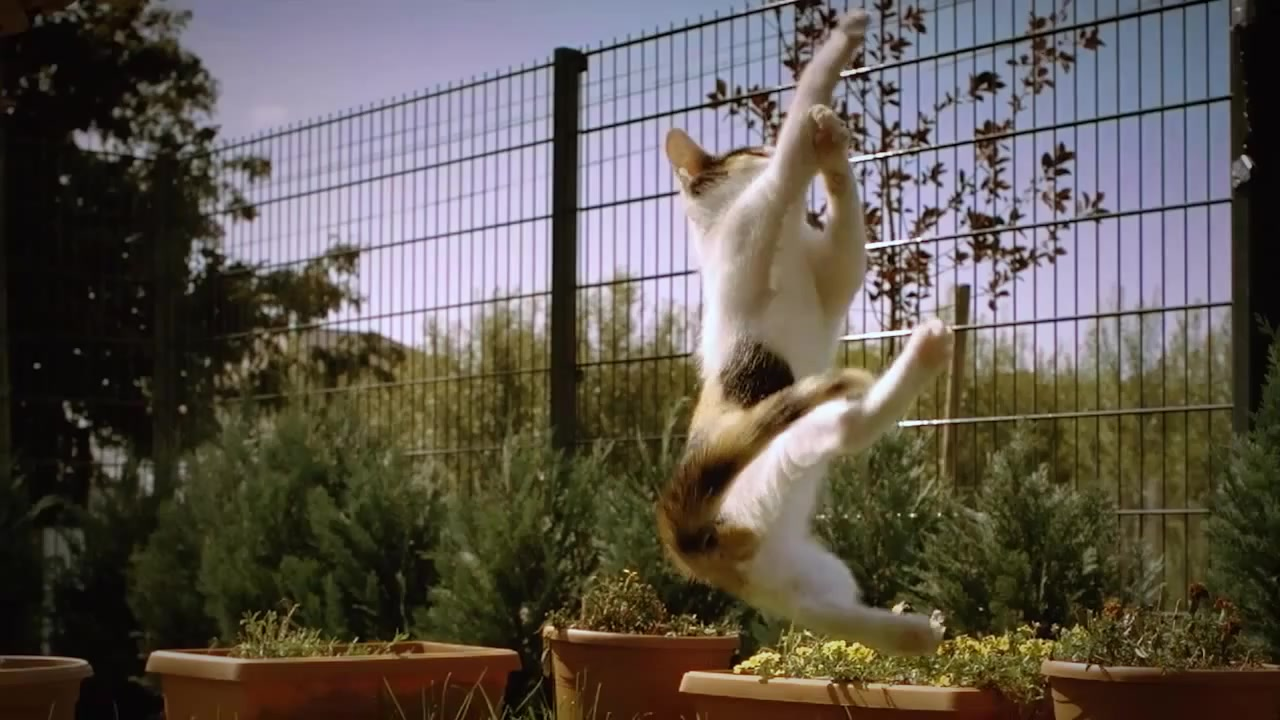cat: (653, 9, 959, 660)
